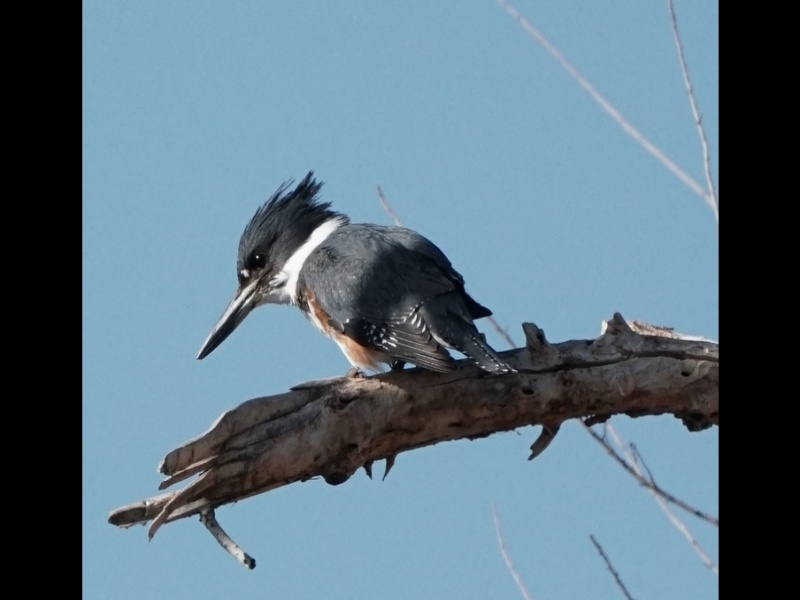kingfisher: (193, 169, 516, 393)
